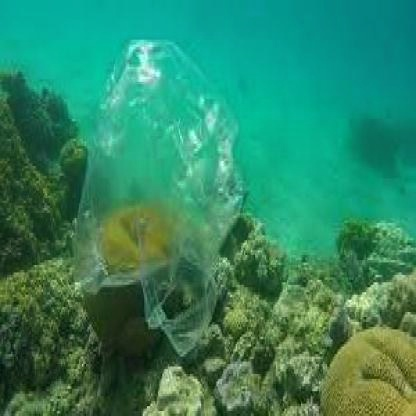pbag: (62, 27, 249, 359)
